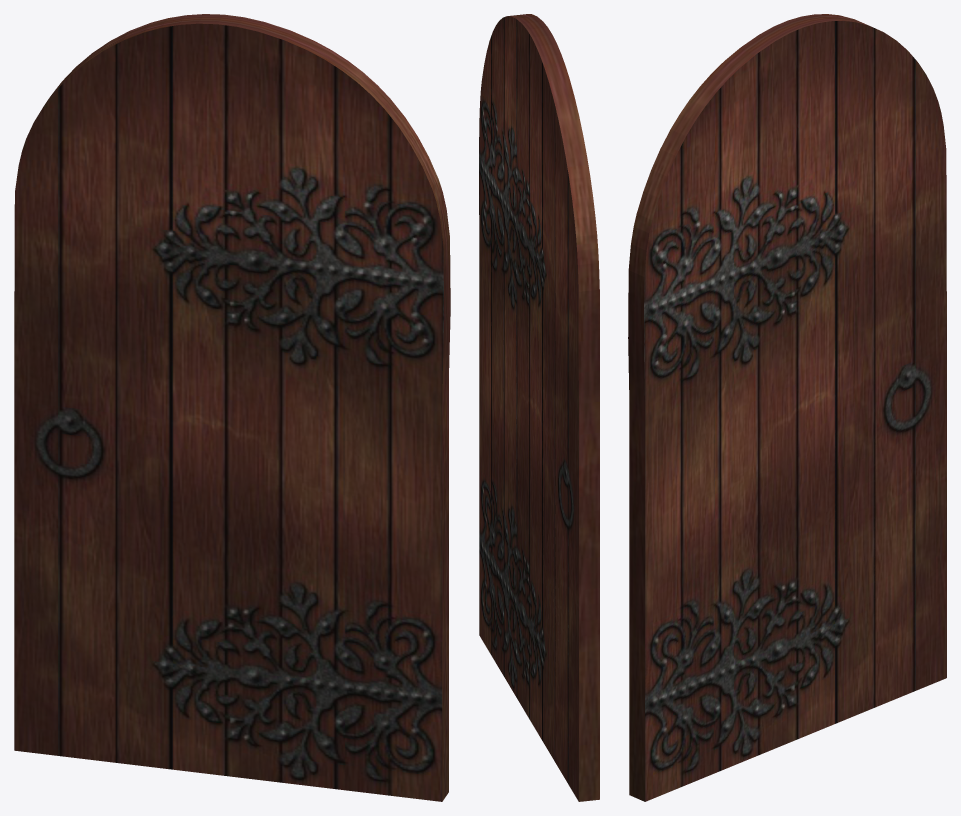
File: door 14.obj
The picture shows the model from 3 angles, left to right: view 1: azimuth 30°, elevation 25°; view 2: azimuth 150°, elevation 25°; view 3: azimuth 270°, elevation 25°; orthographic projection. The views are drawn at different scales.
Visible parts, largest first — view 1: door_10:Mesh; view 2: door_10:Mesh; view 3: door_10:Mesh.
Part boxes in pixels (x1,y1,x2,y2): door_10:Mesh: [14, 14, 450, 801]; door_10:Mesh: [479, 14, 599, 801]; door_10:Mesh: [628, 14, 946, 801].
Size of the model in its own units: 47.52 by 120 by 48.78.
Materials: 1 (1 with a texture image).
